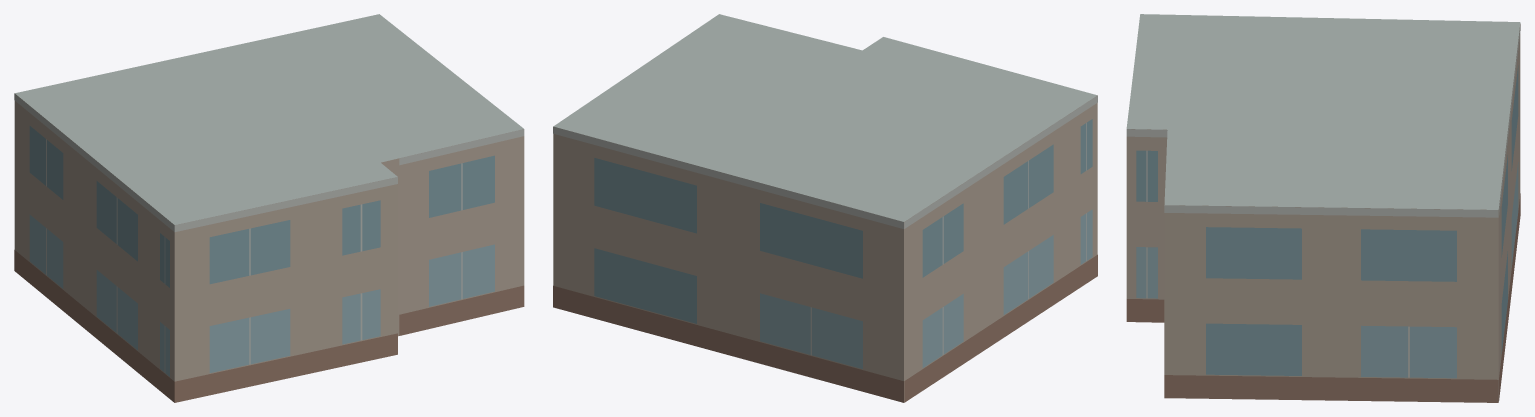
File: survey-upis-32976530.glb
3 views of the same model, side by side, from view 1: azimuth 30°, elevation 25°; view 2: azimuth 150°, elevation 25°; view 3: azimuth 270°, elevation 25° (orthographic). The views are drawn at different scales.
Visible parts, largest first — view 1: survey-upis-32976530.tmp; view 2: survey-upis-32976530.tmp; view 3: survey-upis-32976530.tmp.
Boxes of the visible parts, left/top/right/bottom form: survey-upis-32976530.tmp: left=14, top=14, right=524, bottom=402; survey-upis-32976530.tmp: left=553, top=14, right=1097, bottom=402; survey-upis-32976530.tmp: left=1126, top=14, right=1520, bottom=402.
Bounding box in the file's own units: 13.3 × 6.1 × 11.3.
